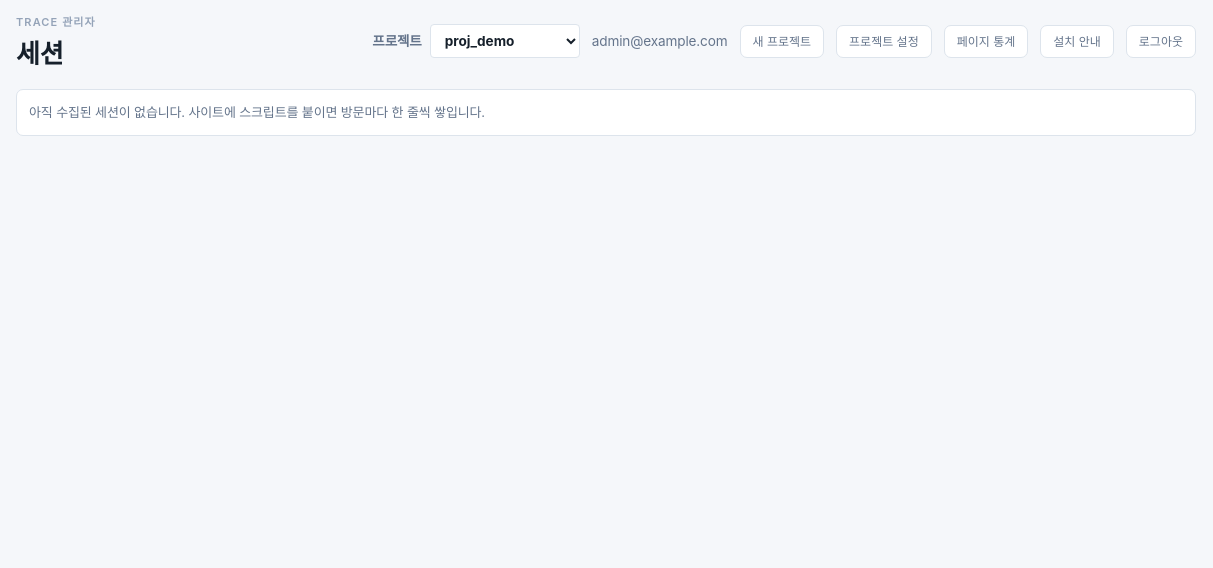
Scenario: App 프로젝트 설정 › 설정 저장이 401을 받으면 로그인 화면으로 전환한다
The image size is (1213, 568).
Click the button "프로젝트 설정" at (884, 41), box [836, 25, 932, 58]
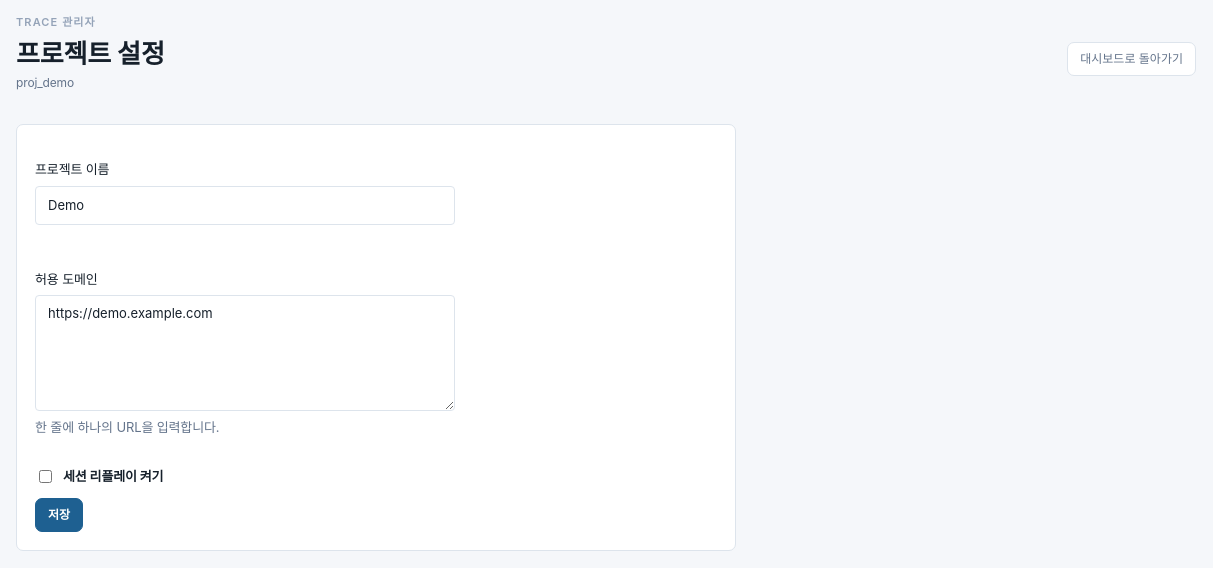
Replace the text in the field labelled "프로젝트 이름" with "New Demo" at (245, 205), box [35, 186, 455, 225]
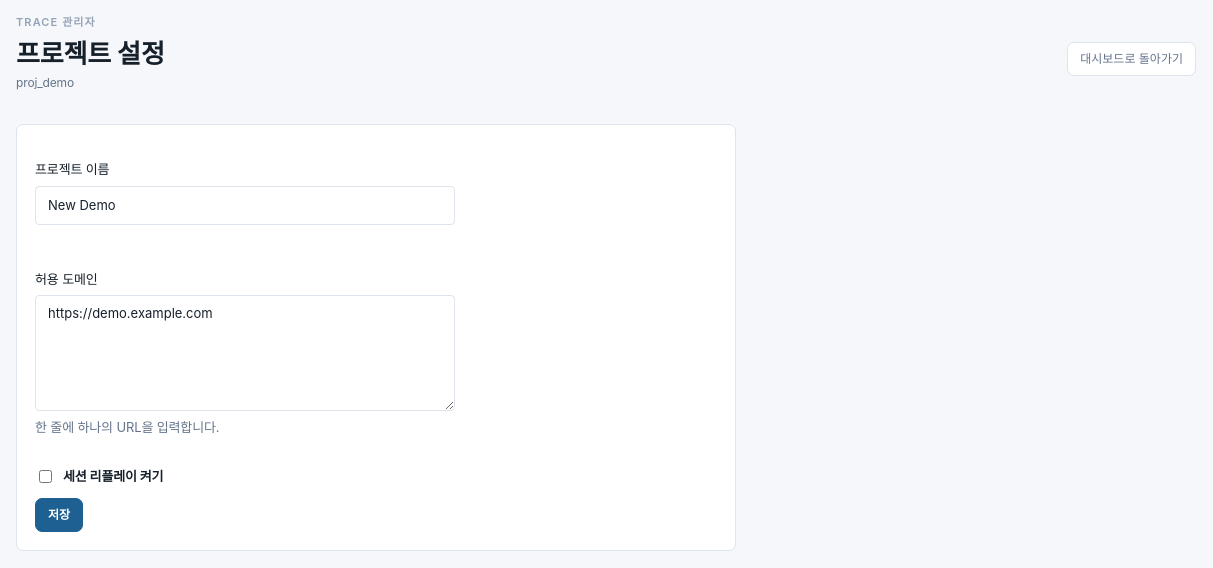
Click the button "저장" at (59, 515), box [35, 498, 83, 532]
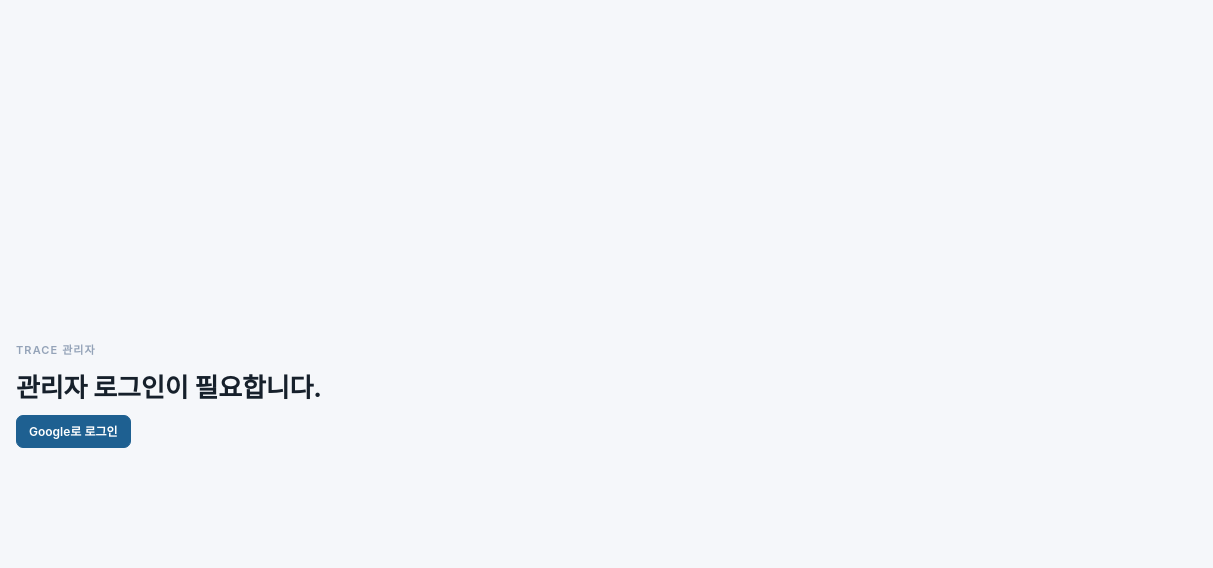
Now the button "Google로 로그인" is shown, box [16, 415, 130, 448]
Now the heading "프로젝트 설정" is gone
